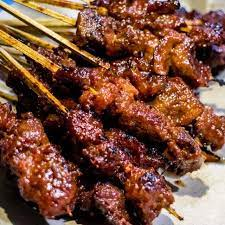sate: (3, 2, 224, 223)
